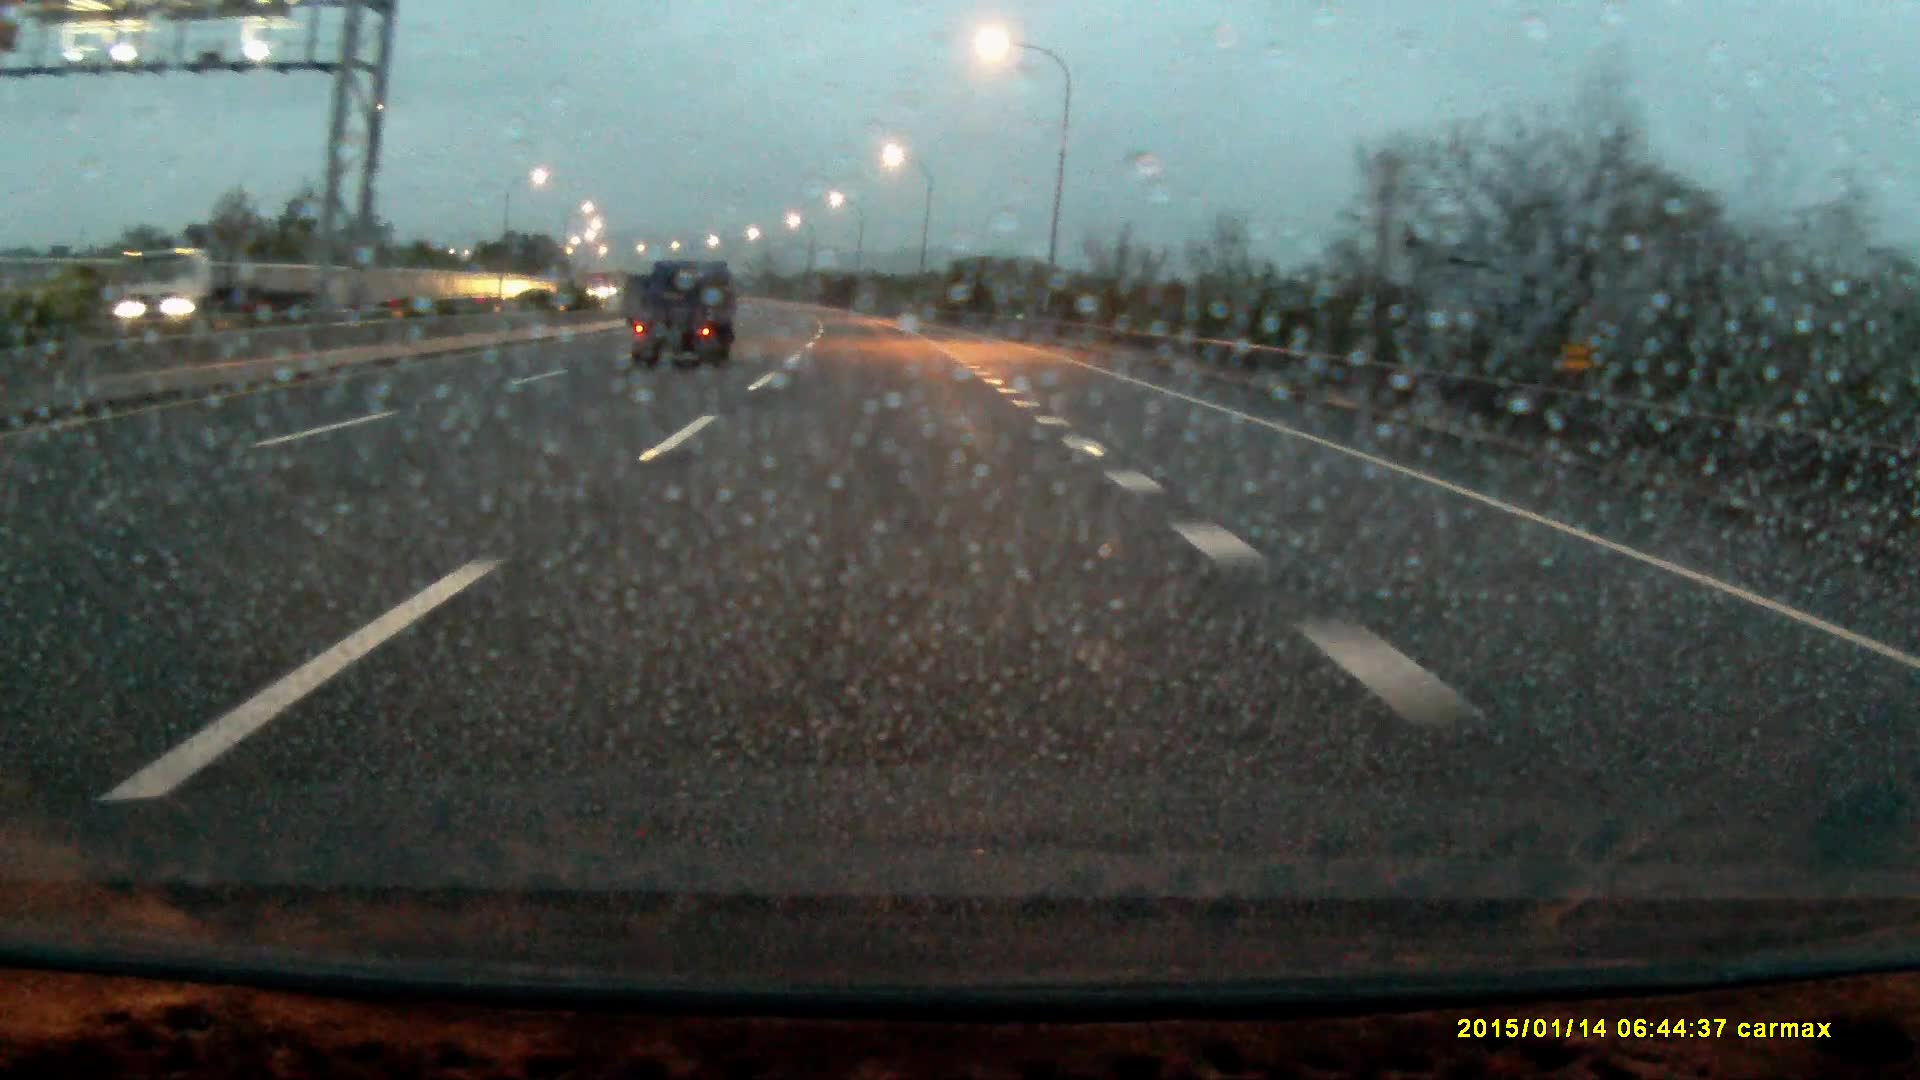vehicle: (86, 249, 293, 326), (630, 262, 738, 373)
